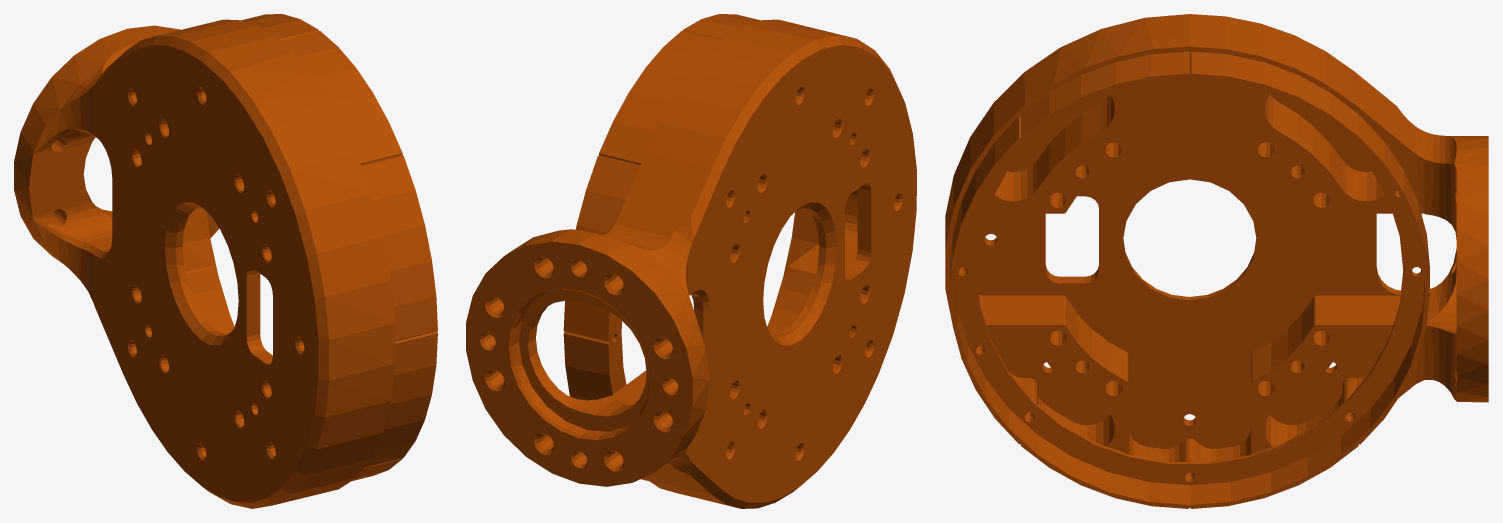
Rendered from wrist.stl.obj.
The picture shows the model from 3 angles, left to right: view 1: azimuth 30°, elevation 25°; view 2: azimuth 150°, elevation 25°; view 3: azimuth 270°, elevation 25°; orthographic projection.
Visible parts, largest first — view 1: <STL_BINARY>; view 2: <STL_BINARY>; view 3: <STL_BINARY>.
Part boxes in pixels (box(x1,y1,x2,y2)): <STL_BINARY>: box(14, 14, 437, 508); <STL_BINARY>: box(466, 14, 916, 508); <STL_BINARY>: box(945, 14, 1488, 508).
Size of the model in its own units: 0.05 by 0.092 by 0.1018.
